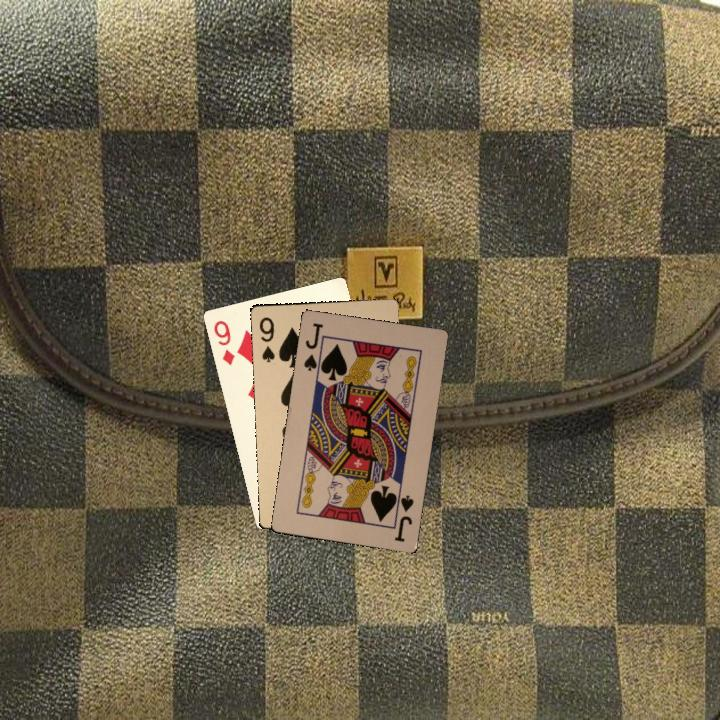9d: (210, 316, 237, 368)
9s: (256, 313, 277, 365)
Js: (389, 487, 416, 546), (300, 319, 328, 373)
